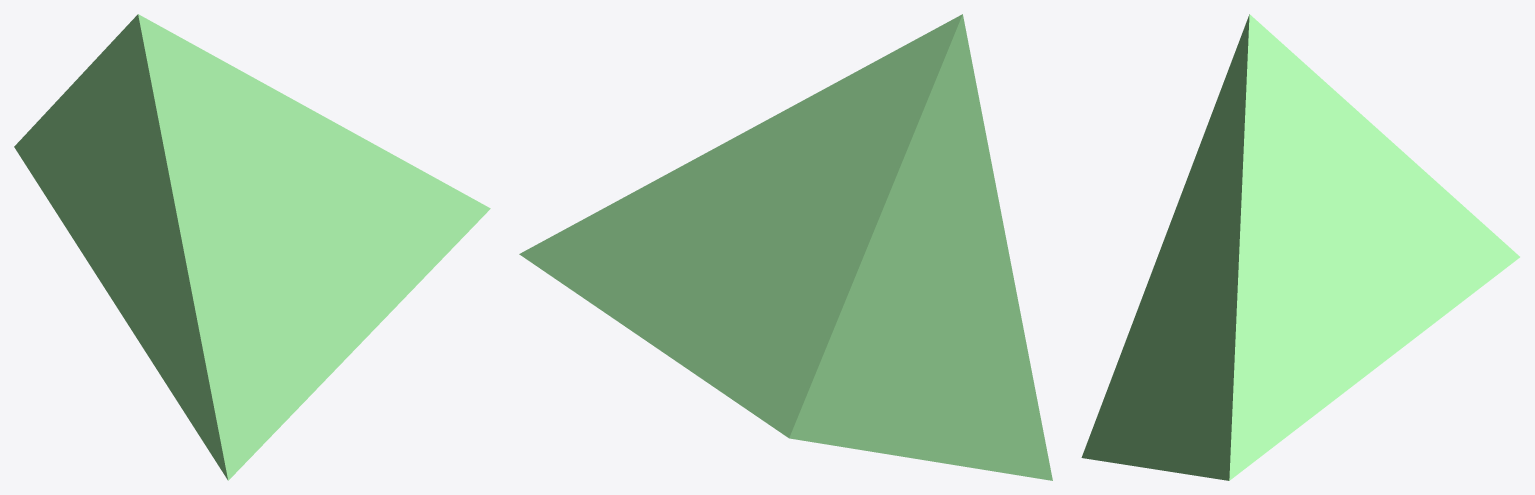
File: linkhou_LR4_R560_link5_respondable_coll_5.dae
3 renders of one model, left to right at view 1: azimuth 30°, elevation 25°; view 2: azimuth 150°, elevation 25°; view 3: azimuth 270°, elevation 25°, orthographic. The views are drawn at different scales.
Parts seen in each view (by area): view 1: Node_00000209DB3A90B0; view 2: Node_00000209DB3A90B0; view 3: Node_00000209DB3A90B0.
Boxes of the visible parts, box(x1,y1,x2,y2) form: Node_00000209DB3A90B0: box(14, 14, 490, 480); Node_00000209DB3A90B0: box(519, 14, 1052, 480); Node_00000209DB3A90B0: box(1081, 14, 1519, 480).
Size of the model in its own units: 0.00534 by 0.00613 by 0.00556.
